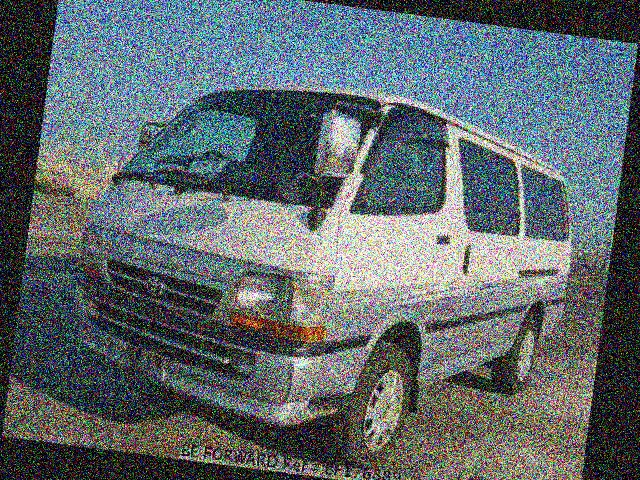van: (57, 58, 592, 480)
